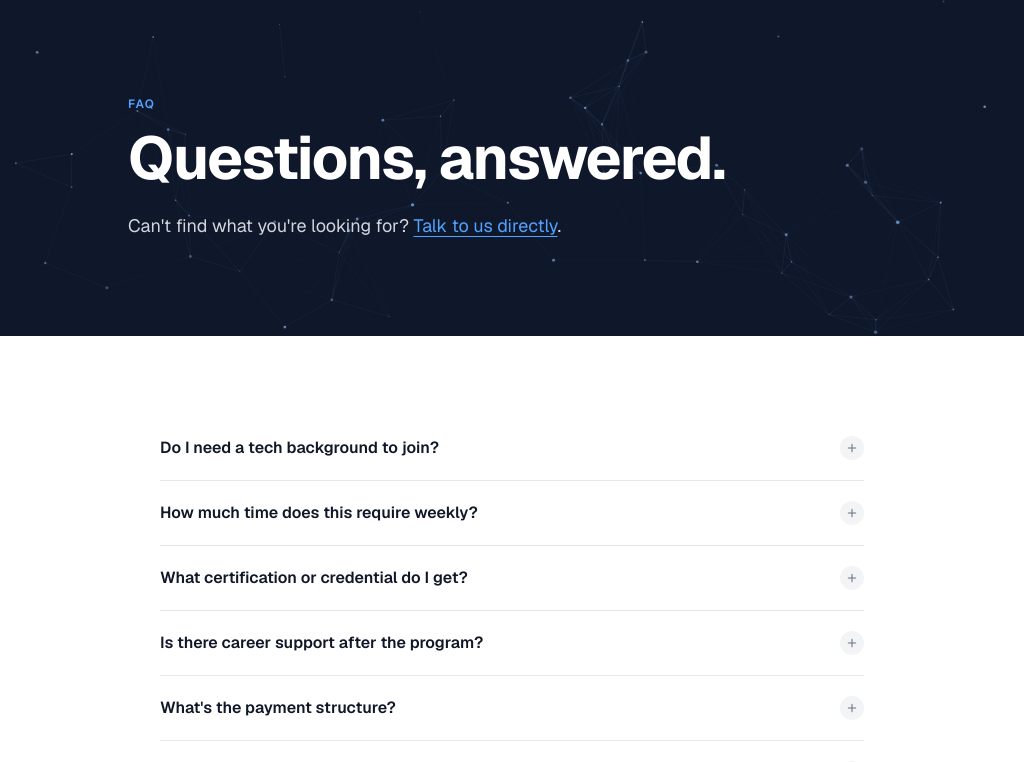
Scenario: FAQ page › only one accordion item is open at a time
Click the button "Do I need a tech background to join?". click: coordinates (299, 448)
box: [160,436,864,460]
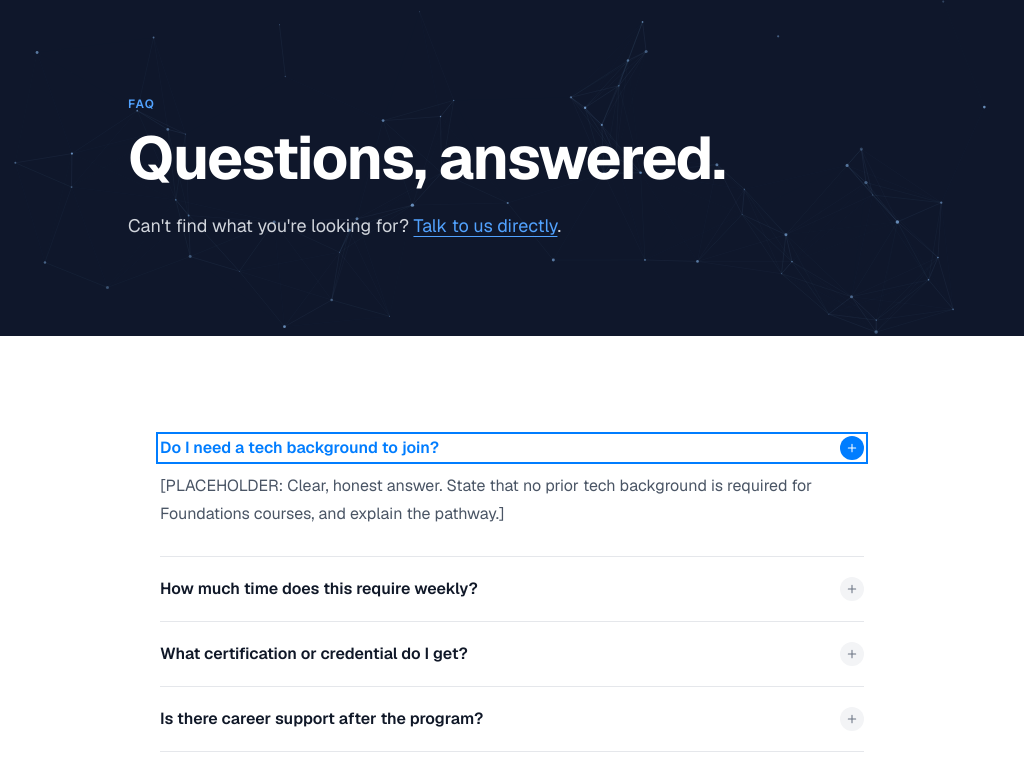
Expected: the button "Do I need a tech background to join?" is expanded, [160,436,864,460]
Click the button "How much time does this require weekly?". click: coordinates (319, 588)
box: [160,577,864,601]
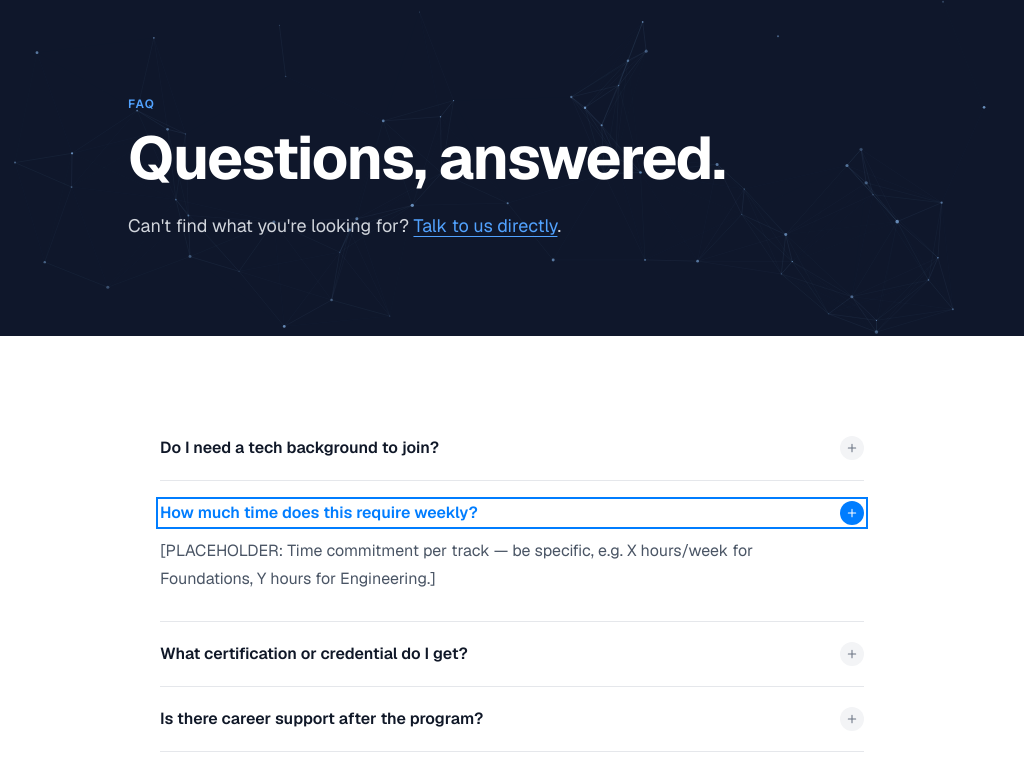
Expected: the button "Do I need a tech background to join?" is collapsed, [160,436,864,460]
Expected: the button "How much time does this require weekly?" is expanded, [160,501,864,525]
